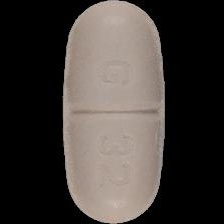68462-190: (0, 0, 224, 224)
